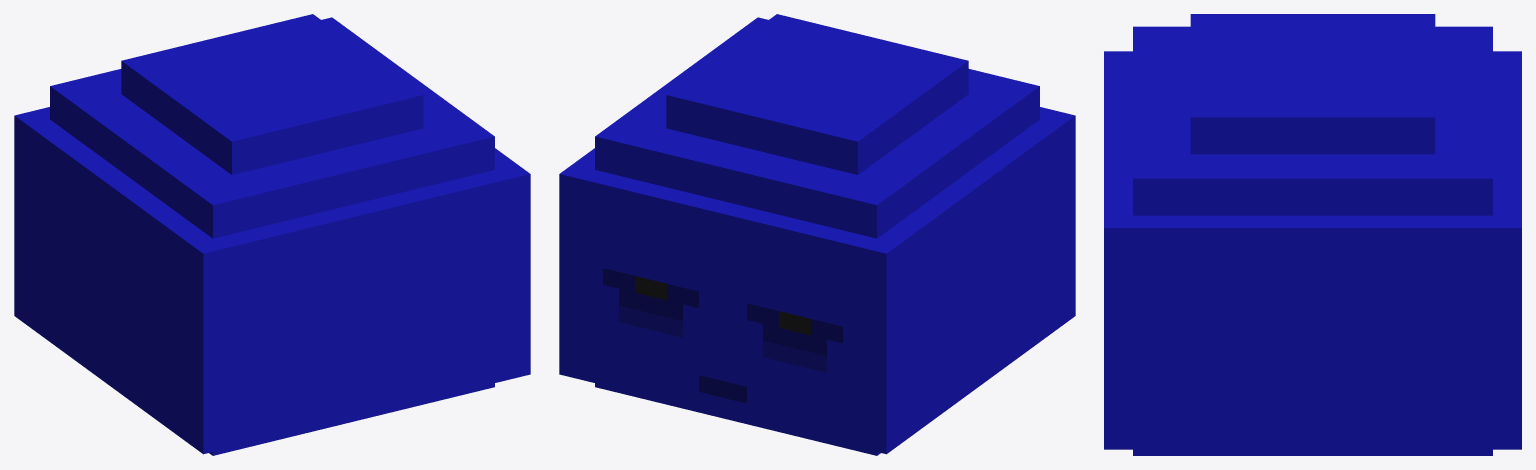
File: Updated Blue Slime.fbx
3 views of the same model, side by side, from view 1: azimuth 30°, elevation 25°; view 2: azimuth 150°, elevation 25°; view 3: azimuth 270°, elevation 25° (orthographic). The views are drawn at different scales.
Parts seen in each view (by area): view 1: cuboid; view 2: cuboid; view 3: cuboid.
Part boxes in pixels (box(x1,y1,x2,y2)): cuboid: box(14, 14, 530, 455); cuboid: box(559, 14, 1075, 455); cuboid: box(1104, 14, 1521, 455).
Size of the model in its own units: 64.02 by 53.12 by 64.02.
1 material, 1 textured.
